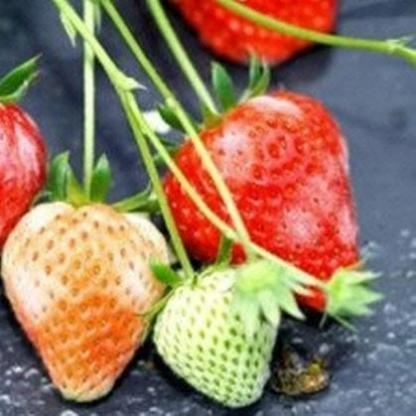Strawberry_Powdery_Mildew_Fruit: (184, 90, 358, 276)
